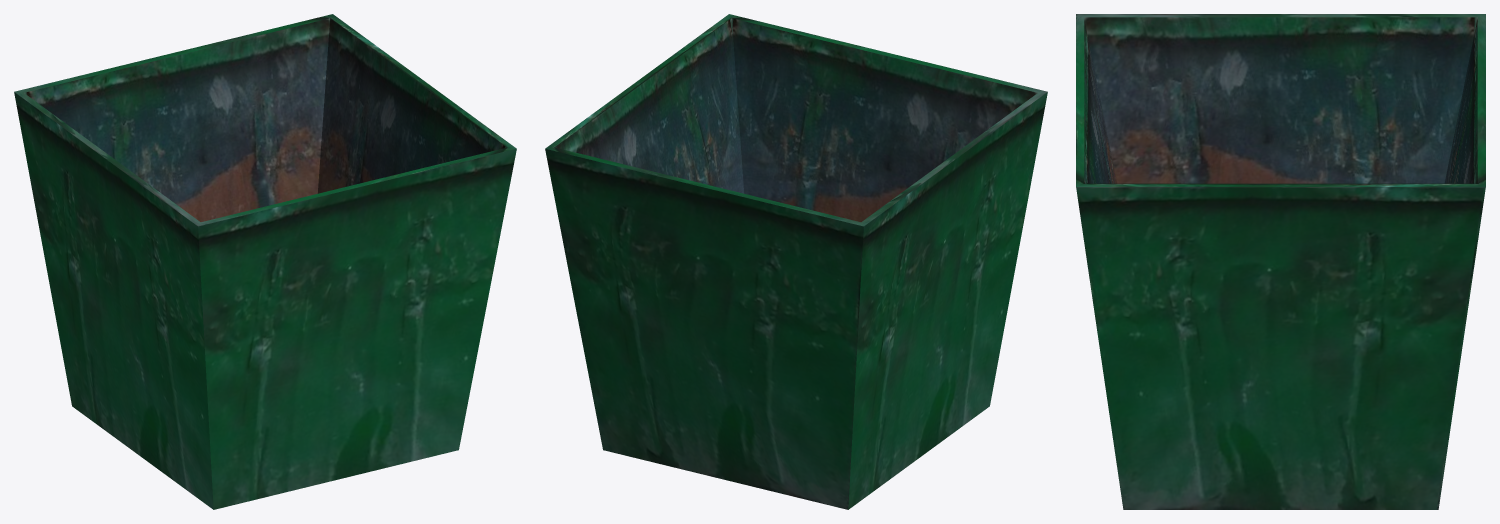
The model's file is sovietDumpster01.fbx.
The picture shows the model from 3 angles, left to right: view 1: azimuth 30°, elevation 25°; view 2: azimuth 150°, elevation 25°; view 3: azimuth 270°, elevation 25°; orthographic projection. The views are drawn at different scales.
Visible parts, largest first — view 1: Cube; view 2: Cube; view 3: Cube.
Boxes of the visible parts, <box> form: Cube: <box>14,14,516,509</box>; Cube: <box>545,14,1047,509</box>; Cube: <box>1076,14,1485,509</box>.
Size of the model in its own units: 260 by 240 by 260.
